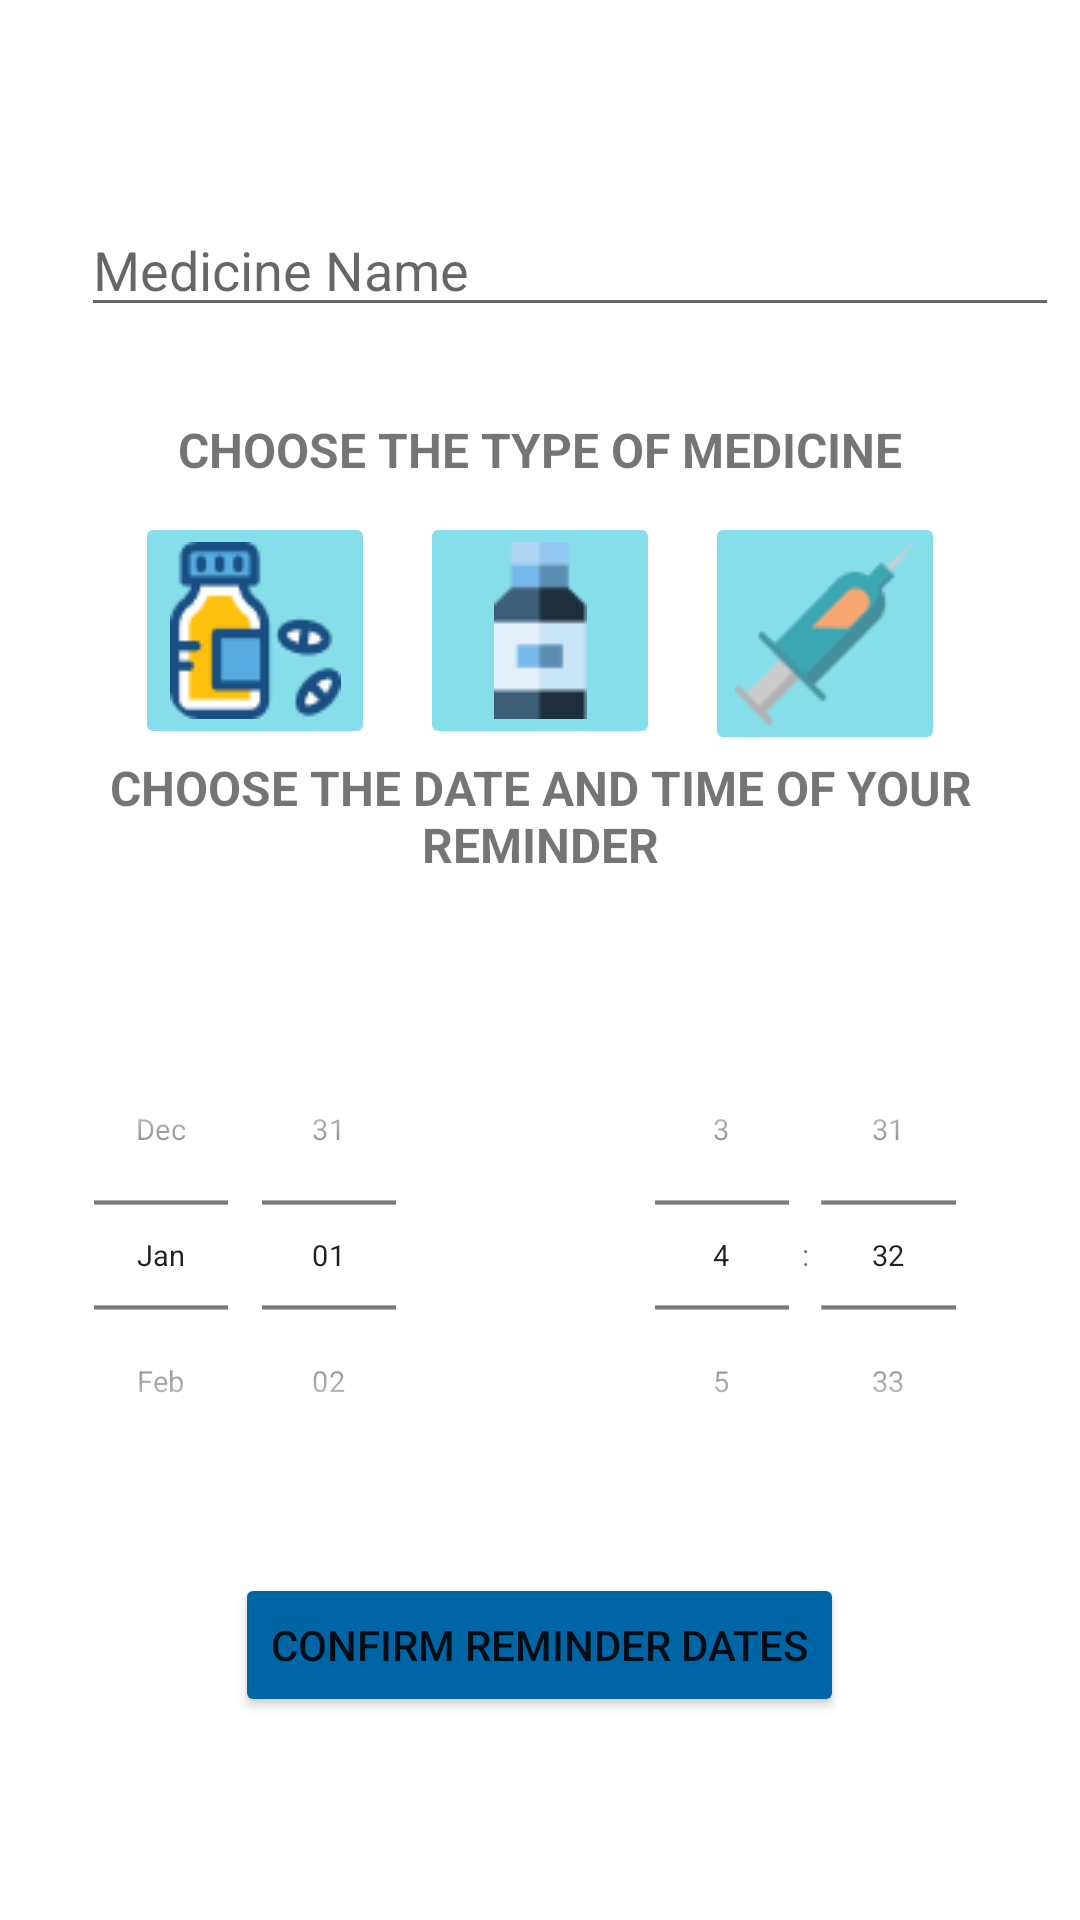

Named icons in this screenshot (1080w x 1920h) and their bounding boxes, (x1, y1, x2, y2):
pills: (147, 530, 363, 731)
syringe: (717, 530, 933, 737)
syrup: (432, 530, 648, 731)
